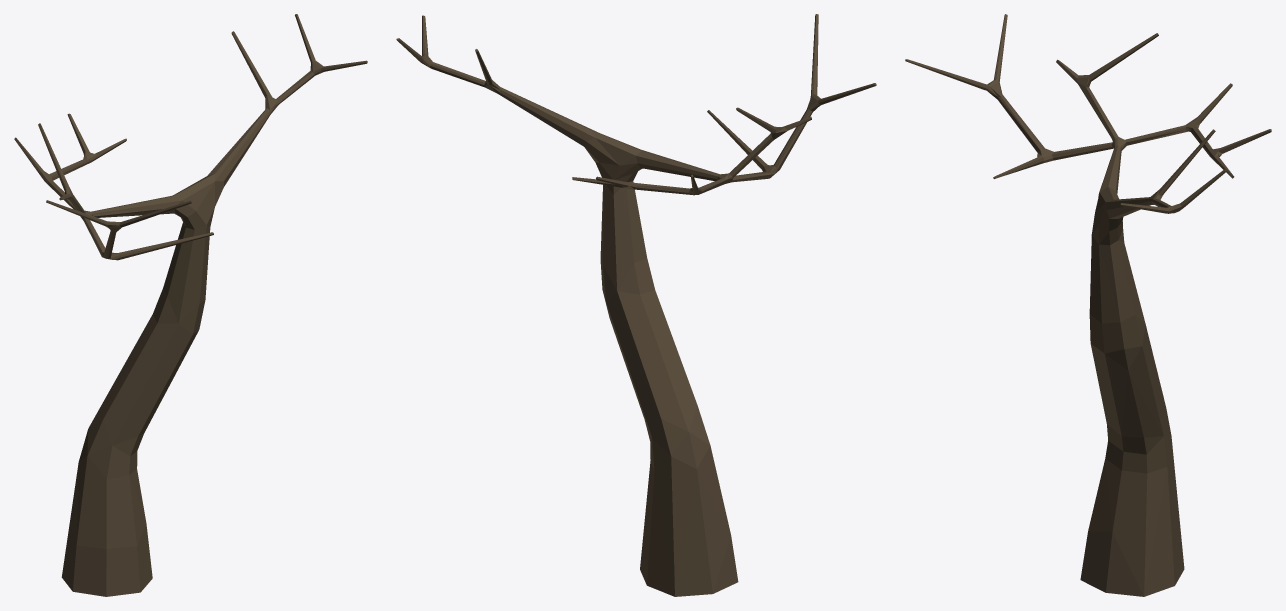
Rendered from Tree2Dead2.fbx.
The picture shows the model from 3 angles, left to right: view 1: azimuth 30°, elevation 25°; view 2: azimuth 150°, elevation 25°; view 3: azimuth 270°, elevation 25°; orthographic projection. The views are drawn at different scales.
Visible parts, largest first — view 1: Cube; view 2: Cube; view 3: Cube.
Part boxes in pixels (<box>): Cube: <box>14,14,367,596</box>; Cube: <box>396,14,876,596</box>; Cube: <box>905,14,1271,596</box>.
Bounding box in the file's own units: 309 × 380 × 237.
